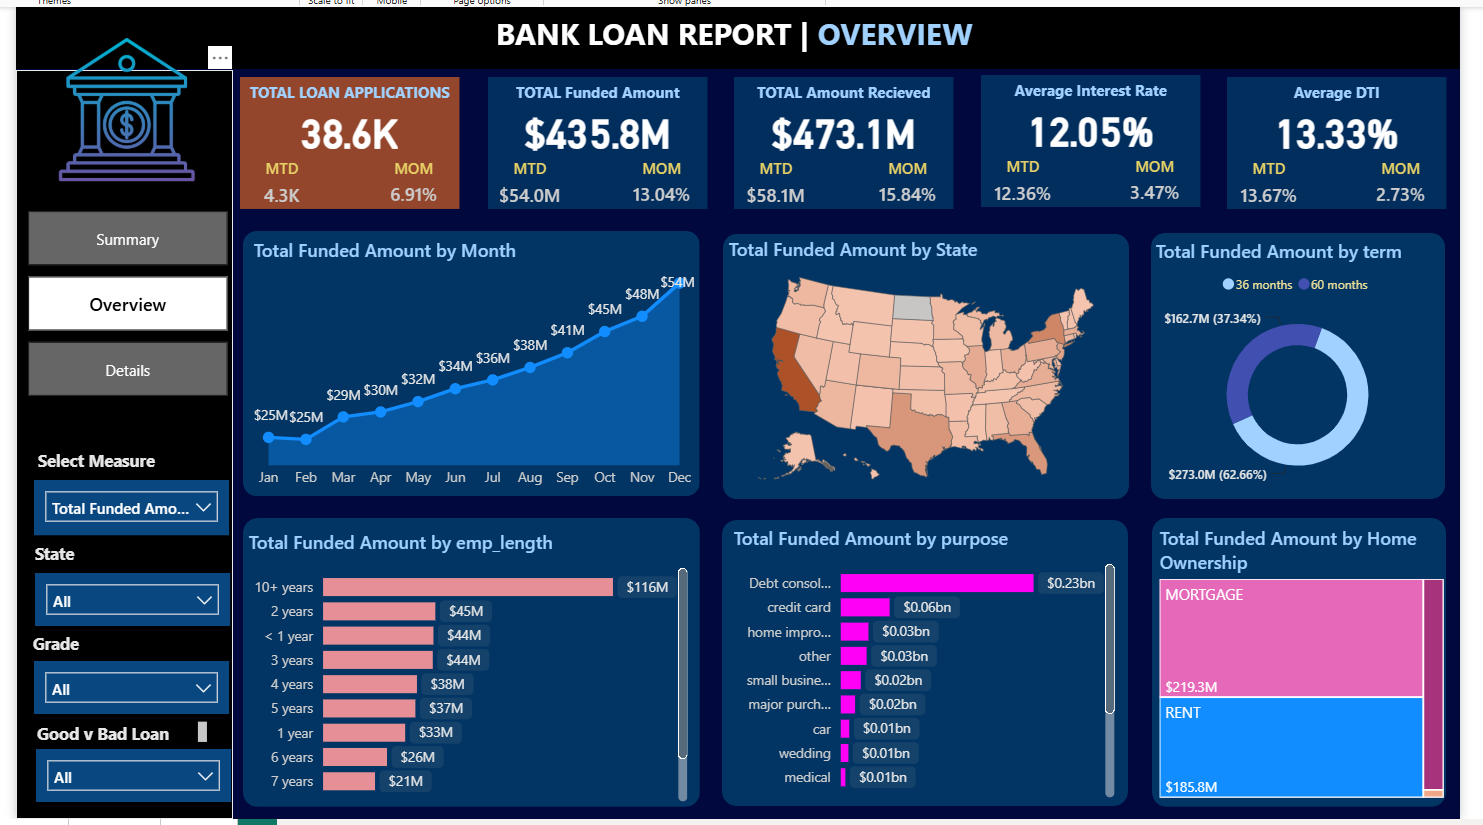

The page's visual inventory and layout, read from the dashboard file:
{"tool":"powerbi","page":{"name":"Overview","canvas":[1280,720],"ordinal":1},"visuals":[{"type":"shape","box":[0,0,1280,55],"z":0},{"type":"shape","box":[201,198.4,405,235],"z":0,"group":"g6"},{"type":"shape","box":[1006.7,200.1,260.7,235.9],"z":0,"group":"g11"},{"type":"shape","box":[627.2,201,360,235],"z":0,"group":"g10"},{"type":"shape","box":[201,453,405.2,256.3],"z":0,"group":"g12"},{"type":"shape","box":[1007.3,453.1,260.7,256.3],"z":0,"group":"g14"},{"type":"shape","box":[626.4,454.8,360,253.6],"z":0,"group":"g13"},{"type":"shape","box":[0,55.4,192,664.3],"z":1000},{"type":"textbox","box":[420.2,0,438.7,55.4],"z":2000},{"type":"shape","box":[855.2,60.3,194.6,117.1],"z":3000,"group":"g4"},{"type":"group","id":"g1","title":"Group 1","box":[198.6,62.1,195.1,117],"z":3000},{"type":"shape","box":[198.6,62.1,194.6,117.1],"z":3000,"group":"g1"},{"type":"shape","box":[418.1,62.1,194.6,117.1],"z":3000,"group":"g2"},{"type":"shape","box":[636.7,62.1,194.6,117.1],"z":3000,"group":"g3"},{"type":"shape","box":[1073.8,62.1,194.6,117.1],"z":3000,"group":"g5"},{"type":"group","id":"g2","title":"Group 1","box":[418.1,62.1,194.2,117],"z":4000},{"type":"cardVisual","fields":{"Data":["tbl_bank_loan.Average Interest Rate"]},"box":[855.2,75.1,194.6,69.2],"z":4000,"group":"g4"},{"type":"cardVisual","fields":{"Data":["tbl_bank_loan.Total Loan Application"]},"box":[198.6,76.9,194.6,69.2],"z":4000,"group":"g1"},{"type":"cardVisual","fields":{"Data":["tbl_bank_loan.Total Funded Amount"]},"box":[418.1,76.9,194.6,69.2],"z":4000,"group":"g2"},{"type":"cardVisual","fields":{"Data":["tbl_bank_loan.Total Amount Received"]},"box":[636.7,76.9,194.6,69.2],"z":4000,"group":"g3"},{"type":"cardVisual","fields":{"Data":["tbl_bank_loan.Average DTI"]},"box":[1073.8,76.9,194.6,69.2],"z":4000,"group":"g5"},{"type":"textbox","box":[855.2,60.3,194.6,30.4],"z":5000,"group":"g4"},{"type":"textbox","box":[198.6,62.1,194.6,30.4],"z":5000,"group":"g1"},{"type":"textbox","box":[418.1,62.1,194.6,30.4],"z":5000,"group":"g2"},{"type":"group","id":"g3","title":"Group 1","box":[636.7,62.1,194.2,117],"z":5000},{"type":"textbox","box":[636.7,62.1,194.6,30.4],"z":5000,"group":"g3"},{"type":"textbox","box":[1073.8,62.1,194.6,30.4],"z":5000,"group":"g5"},{"type":"group","id":"g4","title":"Group 1","box":[855.2,60.3,194.2,117],"z":6000},{"type":"cardVisual","title":"MTD ","fields":{"Data":["tbl_bank_loan.MTD Average Interest Rate"]},"box":[855.2,132.2,74.7,45.2],"z":6000,"group":"g4"},{"type":"cardVisual","title":"MTD ","fields":{"Data":["tbl_bank_loan.MTD Loan Applications"]},"box":[198.6,134,74.7,45.2],"z":6000,"group":"g1"},{"type":"cardVisual","title":"MTD ","fields":{"Data":["tbl_bank_loan.MTD Total Funded Amount"]},"box":[418.1,134,74.7,45.2],"z":6000,"group":"g2"},{"type":"cardVisual","title":"MTD ","fields":{"Data":["tbl_bank_loan.MTD Amount Received"]},"box":[636.7,134,74.7,45.2],"z":6000,"group":"g3"},{"type":"cardVisual","title":"MTD ","fields":{"Data":["tbl_bank_loan.MTD Average DTI"]},"box":[1073.8,134,74.7,45.2],"z":6000,"group":"g5"},{"type":"textbox","box":[11.5,468.8,52,31],"z":6000,"group":"g7"},{"type":"cardVisual","title":"MOM","fields":{"Data":["tbl_bank_loan.MOM Average Interest Rate"]},"box":[968.6,132.2,81.2,43.3],"z":7000,"group":"g4"},{"type":"cardVisual","title":"MOM","fields":{"Data":["tbl_bank_loan.MOM Total Loan Application"]},"box":[312,134,81.2,43.3],"z":7000,"group":"g1"},{"type":"cardVisual","title":"MOM","fields":{"Data":["tbl_bank_loan.MOM Funded Amount"]},"box":[531.5,134,81.2,43.3],"z":7000,"group":"g2"},{"type":"cardVisual","title":"MOM","fields":{"Data":["tbl_bank_loan.MOM Amount Received"]},"box":[750.1,134,81.2,43.3],"z":7000,"group":"g3"},{"type":"cardVisual","title":"MOM","fields":{"Data":["tbl_bank_loan.MOM Average DTI"]},"box":[1187.2,134,81.2,43.3],"z":7000,"group":"g5"},{"type":"textbox","box":[14.6,386.5,176,33.3],"z":7000},{"type":"group","id":"g5","title":"Group 1","box":[1073.8,62.1,194.2,117],"z":8000},{"type":"group","id":"g6","title":"Group 2","box":[201,198.4,405,235],"z":9000},{"type":"group","id":"g7","title":"Group 4","box":[11.5,468.8,178.1,80.2],"z":10000},{"type":"group","id":"g8","title":"Group 5","box":[9.4,549,179.2,78.1],"z":11000},{"type":"slicer","fields":{"Values":["tbl_bank_loan.grade"]},"box":[15.4,580,173,47],"z":11000,"group":"g8"},{"type":"slicer","fields":{"Values":["tbl_bank_loan.address_state"]},"box":[16.5,501.8,173,47],"z":12000,"group":"g7"},{"type":"textbox","box":[9.4,549,52,31],"z":12000,"group":"g8"},{"type":"group","id":"g9","title":"Group 6","box":[12.9,629.1,177.1,76.2],"z":12000},{"type":"slicer","fields":{"Values":["Select Measure.Select Measure"]},"box":[15.6,419.8,172.9,49],"z":13000},{"type":"slicer","fields":{"Values":["tbl_bank_loan.Good v Bad Loan"]},"box":[17,658.3,173,47],"z":13000,"group":"g9"},{"type":"group","id":"g10","title":"Group 2","box":[627.2,201,360,235],"z":14000},{"type":"textbox","box":[12.9,629.1,161.4,29.3],"z":14000,"group":"g9"},{"type":"shapeMap","fields":{"Value":["tbl_bank_loan.Total Funded Amount"],"Category":["tbl_bank_loan.address_state"]},"box":[626.9,203.9,360,229.7],"z":15000},{"type":"group","id":"g11","title":"Group 2","box":[1006.7,200.1,260.7,235.9],"z":16000},{"type":"donutChart","fields":{"Y":["tbl_bank_loan.Total Funded Amount"],"Category":["tbl_bank_loan.term"]},"box":[1005.5,205.7,261.6,227.9],"z":17000},{"type":"group","id":"g12","title":"Group 2","box":[201,453,405.2,256.3],"z":18000},{"type":"barChart","fields":{"Y":["tbl_bank_loan.Total Funded Amount"],"Category":["tbl_bank_loan.emp_length"]},"box":[201.3,463.7,399,245.6],"z":19000},{"type":"group","id":"g13","title":"Group 2","box":[626.4,454.8,360,253.6],"z":20000},{"type":"barChart","fields":{"Y":["tbl_bank_loan.Total Funded Amount"],"Category":["tbl_bank_loan.purpose"]},"box":[631.3,460.2,347.6,245.6],"z":21000},{"type":"areaChart","fields":{"Y":["tbl_bank_loan.Total Funded Amount"],"Category":["Date Table.Month"]},"box":[205.7,204.8,400.8,230.5],"z":22000},{"type":"group","id":"g14","title":"Group 2","box":[1007.3,453.1,260.7,256.3],"z":23000},{"type":"treemap","fields":{"Values":["tbl_bank_loan.Total Funded Amount"],"Group":["tbl_bank_loan.home_ownership"]},"box":[1009.1,460.2,261.6,245.6],"z":24000},{"type":"image","box":[9.4,27.1,177.1,127.1],"z":25000},{"type":"pageNavigator","box":[10.4,181.2,177.1,166.7],"z":26000}]}

Visuals, with their boxes on the page's 1280x720 design canvas (x1, y1, x2, y2). These are canvas units, not pixel positions in the 1483x825 screenshot, which may show the page scaled, cropped or inside an application window:
shape: bbox=[0, 0, 1280, 55]
shape: bbox=[201, 198, 606, 433]
shape: bbox=[1007, 200, 1267, 436]
shape: bbox=[627, 201, 987, 436]
shape: bbox=[201, 453, 606, 709]
shape: bbox=[1007, 453, 1268, 709]
shape: bbox=[626, 455, 986, 708]
shape: bbox=[0, 55, 192, 720]
textbox: bbox=[420, 0, 859, 55]
shape: bbox=[855, 60, 1050, 177]
"Group 1" group: bbox=[199, 62, 394, 179]
shape: bbox=[199, 62, 393, 179]
shape: bbox=[418, 62, 613, 179]
shape: bbox=[637, 62, 831, 179]
shape: bbox=[1074, 62, 1268, 179]
"Group 1" group: bbox=[418, 62, 612, 179]
cardVisual - tbl_bank_loan.Average Interest Rate: bbox=[855, 75, 1050, 144]
cardVisual - tbl_bank_loan.Total Loan Application: bbox=[199, 77, 393, 146]
cardVisual - tbl_bank_loan.Total Funded Amount: bbox=[418, 77, 613, 146]
cardVisual - tbl_bank_loan.Total Amount Received: bbox=[637, 77, 831, 146]
cardVisual - tbl_bank_loan.Average DTI: bbox=[1074, 77, 1268, 146]
textbox: bbox=[855, 60, 1050, 91]
textbox: bbox=[199, 62, 393, 92]
textbox: bbox=[418, 62, 613, 92]
"Group 1" group: bbox=[637, 62, 831, 179]
textbox: bbox=[637, 62, 831, 92]
textbox: bbox=[1074, 62, 1268, 92]
"Group 1" group: bbox=[855, 60, 1049, 177]
"MTD " cardVisual: bbox=[855, 132, 930, 177]
"MTD " cardVisual: bbox=[199, 134, 273, 179]
"MTD " cardVisual: bbox=[418, 134, 493, 179]
"MTD " cardVisual: bbox=[637, 134, 711, 179]
"MTD " cardVisual: bbox=[1074, 134, 1148, 179]
textbox: bbox=[12, 469, 64, 500]
"MOM" cardVisual: bbox=[969, 132, 1050, 176]
"MOM" cardVisual: bbox=[312, 134, 393, 177]
"MOM" cardVisual: bbox=[532, 134, 613, 177]
"MOM" cardVisual: bbox=[750, 134, 831, 177]
"MOM" cardVisual: bbox=[1187, 134, 1268, 177]
textbox: bbox=[15, 386, 191, 420]
"Group 1" group: bbox=[1074, 62, 1268, 179]
"Group 2" group: bbox=[201, 198, 606, 433]
"Group 4" group: bbox=[12, 469, 190, 549]
"Group 5" group: bbox=[9, 549, 189, 627]
slicer - tbl_bank_loan.grade: bbox=[15, 580, 188, 627]
slicer - tbl_bank_loan.address_state: bbox=[16, 502, 190, 549]
textbox: bbox=[9, 549, 61, 580]
"Group 6" group: bbox=[13, 629, 190, 705]
slicer - Select Measure.Select Measure: bbox=[16, 420, 188, 469]
slicer - tbl_bank_loan.Good v Bad Loan: bbox=[17, 658, 190, 705]
"Group 2" group: bbox=[627, 201, 987, 436]
textbox: bbox=[13, 629, 174, 658]
shapeMap - tbl_bank_loan.Total Funded Amount x tbl_bank_loan.address_state: bbox=[627, 204, 987, 434]
"Group 2" group: bbox=[1007, 200, 1267, 436]
donutChart - tbl_bank_loan.Total Funded Amount x tbl_bank_loan.term: bbox=[1006, 206, 1267, 434]
"Group 2" group: bbox=[201, 453, 606, 709]
barChart - tbl_bank_loan.Total Funded Amount x tbl_bank_loan.emp_length: bbox=[201, 464, 600, 709]
"Group 2" group: bbox=[626, 455, 986, 708]
barChart - tbl_bank_loan.Total Funded Amount x tbl_bank_loan.purpose: bbox=[631, 460, 979, 706]
areaChart - tbl_bank_loan.Total Funded Amount x Date Table.Month: bbox=[206, 205, 606, 435]
"Group 2" group: bbox=[1007, 453, 1268, 709]
treemap - tbl_bank_loan.Total Funded Amount x tbl_bank_loan.home_ownership: bbox=[1009, 460, 1271, 706]
image: bbox=[9, 27, 186, 154]
pageNavigator: bbox=[10, 181, 188, 348]
